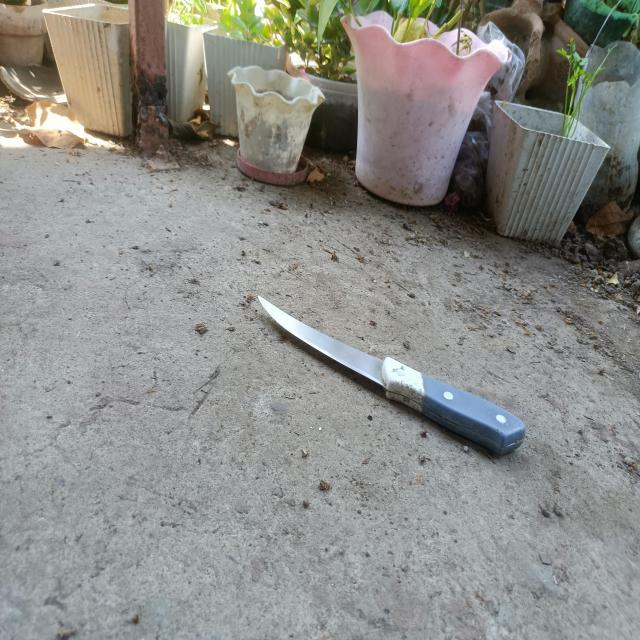knife: (257, 296, 525, 457)
